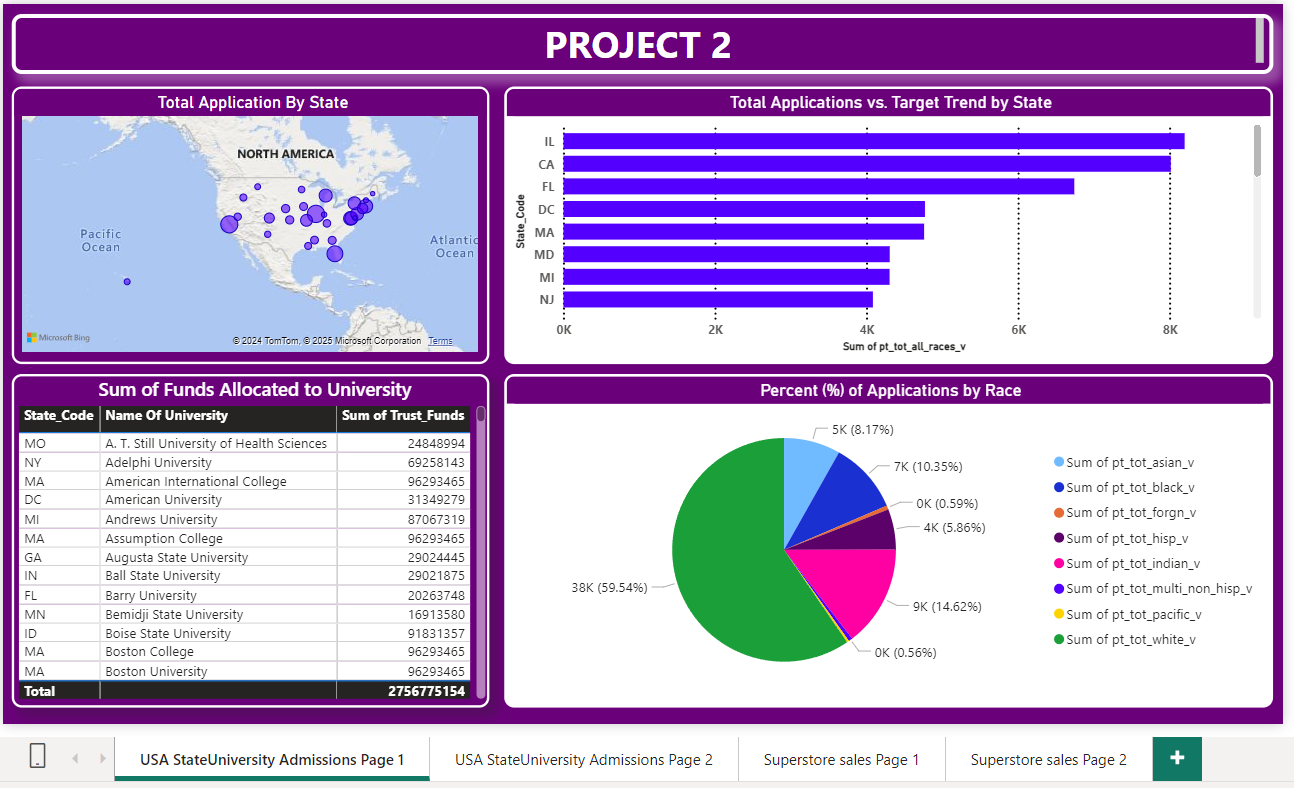

The page's visual inventory and layout, read from the dashboard file:
{"tool":"powerbi","page":{"name":"USA StateUniversity Admissions Page 1","canvas":[1280,720],"ordinal":0},"visuals":[{"type":"textbox","box":[8.8,10,1261.2,60],"z":0},{"type":"map","title":"Total Application By State","fields":{"Size":["Sum(university_applications.pt_tot_all_races_v)"],"Category":["state_target.State_Code"]},"box":[8.8,82.5,477.5,277.5],"z":1000},{"type":"clusteredBarChart","title":"Total Applications vs. Target Trend by State","fields":{"Y":["Sum(university_applications.pt_tot_all_races_v)"],"Category":["state_universities.State_Code"]},"box":[501.2,82.5,768.8,277.5],"z":2000},{"type":"tableEx","title":"Sum of Funds Allocated to University","fields":{"Values":["state_universities.State_Code","university_applications.Name Of University","Sum(state_universities.Trust_Funds)"]},"box":[8.8,370,477.5,333.8],"z":3000},{"type":"pieChart","title":"Percent (%) of Applications by Race","fields":{"Y":["Sum(university_applications.pt_tot_asian_v)","Sum(university_applications.pt_tot_black_v)","Sum(university_applications.pt_tot_forgn_v)","Sum(university_applications.pt_tot_hisp_v)","Sum(university_applications.pt_tot_indian_v)","Sum(university_applications.pt_tot_multi_non_hisp_v)","Sum(university_applications.pt_tot_pacific_v)","Sum(university_applications.pt_tot_white_v)"]},"box":[501.2,370,768.8,333.8],"z":4000}]}

Visuals, with their boxes in screenshot pixels (x1, y1, x2, y2):
textbox: l=12, t=10, r=1270, b=70
"Total Application By State" map: l=12, t=82, r=488, b=359
"Total Applications vs. Target Trend by State" clusteredBarChart: l=503, t=82, r=1270, b=359
"Sum of Funds Allocated to University" tableEx: l=12, t=369, r=488, b=702
"Percent (%) of Applications by Race" pieChart: l=503, t=369, r=1270, b=702
